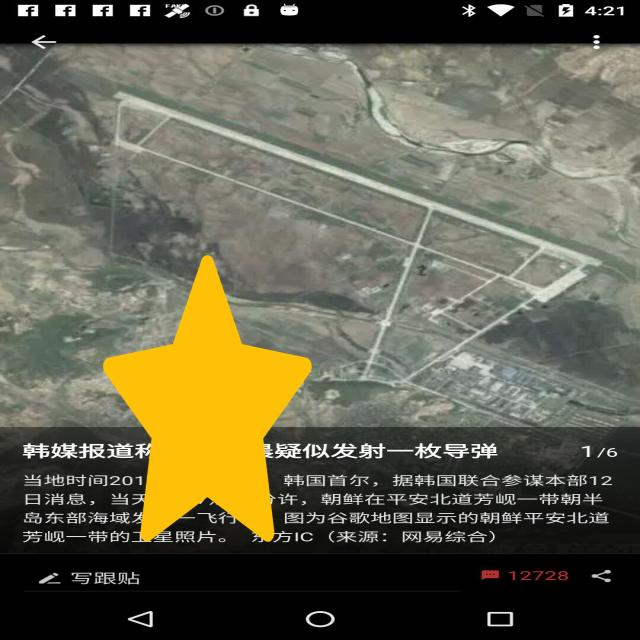forced continuity: (103, 255, 312, 542)
